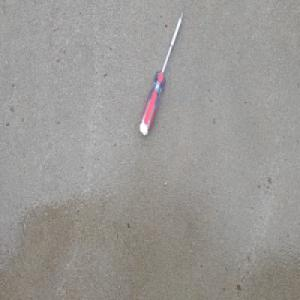Screwdriver: (138, 11, 184, 138)
